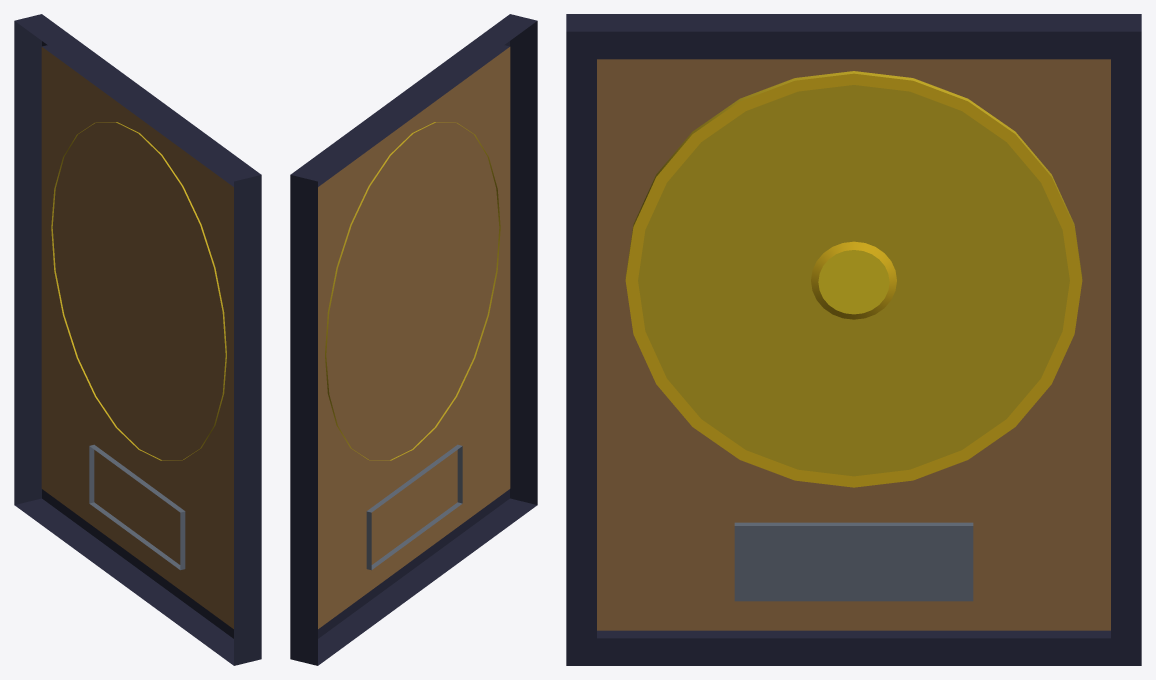
File: DiscoDeOuro.fbx
The picture shows the model from 3 angles, left to right: view 1: azimuth 30°, elevation 25°; view 2: azimuth 150°, elevation 25°; view 3: azimuth 270°, elevation 25°; orthographic projection. The views are drawn at different scales.
Visible parts, largest first — view 1: Cube; view 2: Cube; view 3: Cube.
Part boxes in pixels (box(x1,y1,x2,y2)): Cube: box(14, 14, 261, 665); Cube: box(290, 14, 537, 665); Cube: box(566, 14, 1141, 665).
Bounding box in the file's own units: 18.21 × 306 × 252.
Materials: 1 (1 with a texture image).
